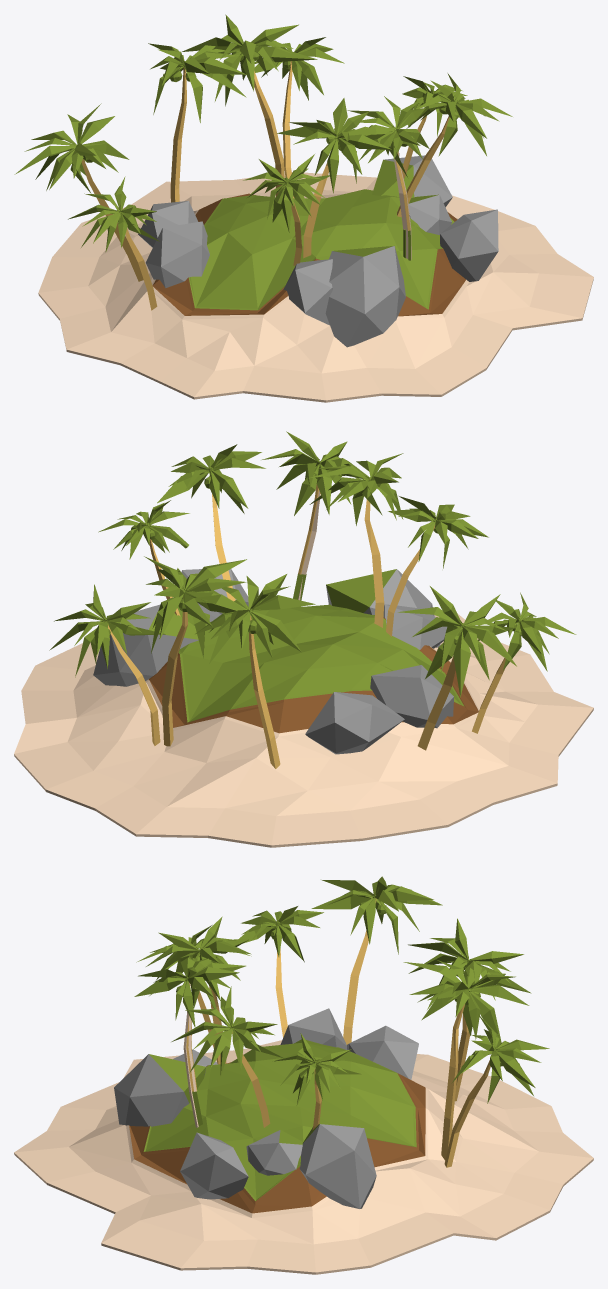
File: iceland-2.glb
The picture shows the model from 3 angles, top to bottom: view 1: azimuth 30°, elevation 25°; view 2: azimuth 150°, elevation 25°; view 3: azimuth 270°, elevation 25°; orthographic projection. The views are drawn at different scales.
Visible parts, largest first — view 1: Island; view 2: Island; view 3: Island.
Part boxes in pixels (x1,y1,x2,y2): Island: (14,14,593,402); Island: (14,431,593,847); Island: (14,876,593,1274).
Bounding box in the file's own units: 10.45 × 4.48 × 10.69.
Materials: 1 (1 with a texture image).
